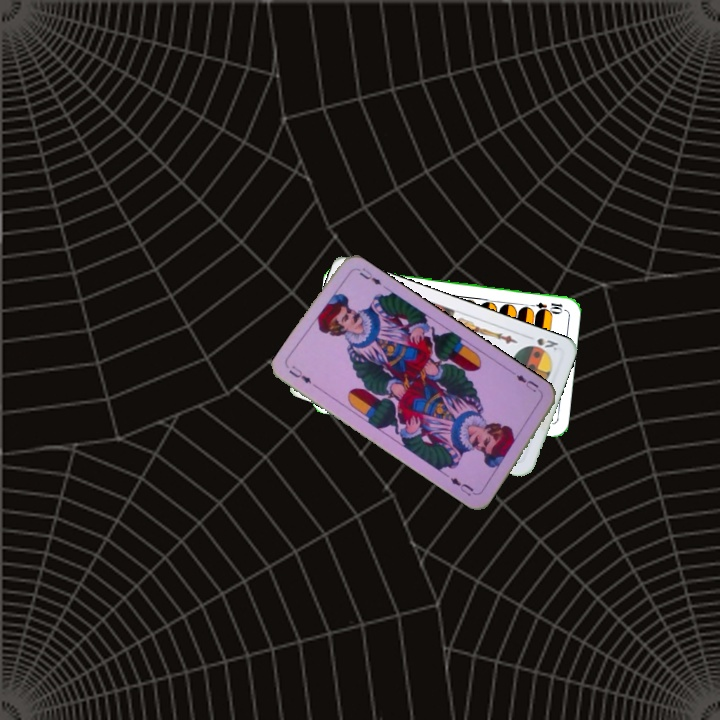E10: (524, 298, 565, 314)
EU: (509, 368, 545, 396), (285, 362, 314, 386)
SK: (533, 334, 561, 353)
